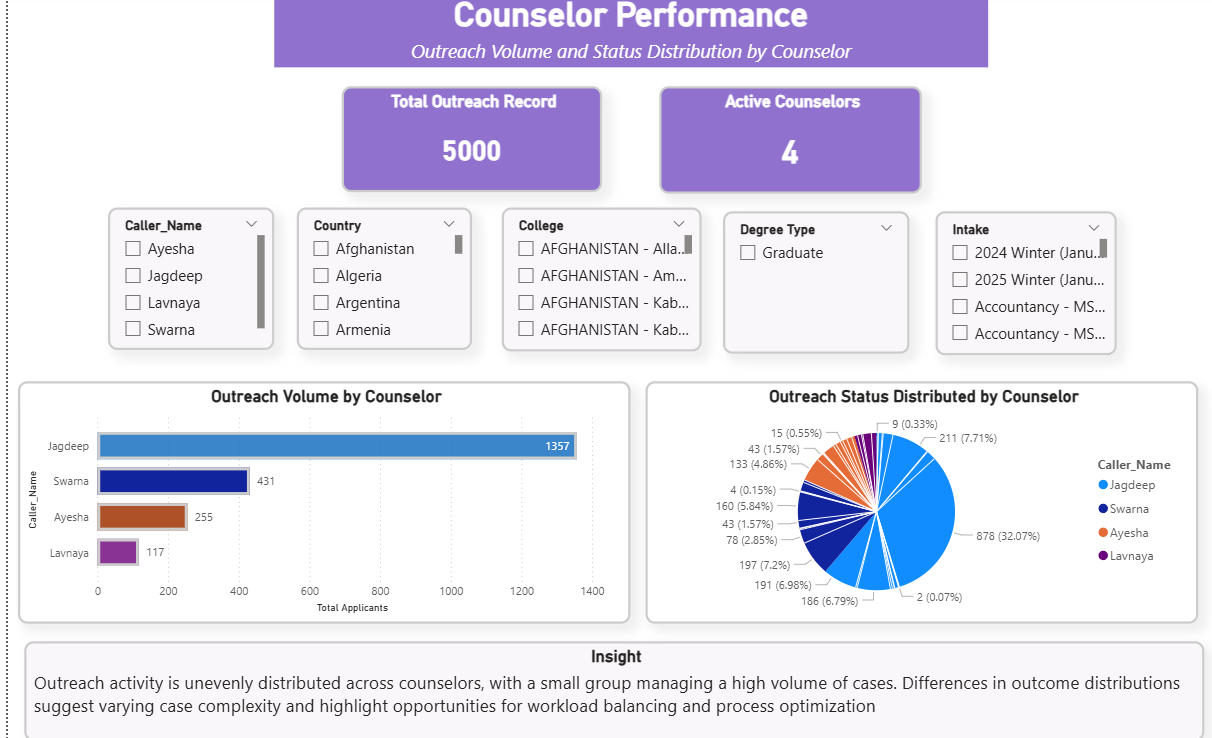

The page's visual inventory and layout, read from the dashboard file:
{"tool":"powerbi","page":{"name":"Counselor Performance","canvas":[1300,800],"ordinal":3},"visuals":[{"type":"card","title":"Total Outreach Record","fields":{"Values":["Week3_Analysis_View.Total Applicants"]},"box":[357.9,97.9,278.8,113.9],"z":0},{"type":"card","title":"Active Counselors","fields":{"Values":["Week3_Analysis_View.Active Counselors"]},"box":[698.4,97.9,281.5,115.3],"z":1000},{"type":"clusteredBarChart","title":"Outreach Volume by Counselor","fields":{"Category":["Week3_Analysis_View.Caller_Name"],"Y":["Week3_Analysis_View.Total Applicants"]},"box":[10.7,414.2,656.8,260.1],"z":2000},{"type":"pieChart","title":"Outreach Status Distributed by Counselor","fields":{"Category":["Week3_Analysis_View.Caller_Name"],"Series":["Week3_Analysis_View.Outcome_1"],"Y":["Week3_Analysis_View.Total Applicants"]},"box":[683.6,414.2,592.5,260.1],"z":3000},{"type":"slicer","fields":{"Values":["Week3_Analysis_View.Caller_Name"]},"box":[107.2,227.9,178.3,152.8],"z":4000},{"type":"slicer","fields":{"Values":["Week3_Analysis_View.Country"]},"box":[309.7,227.9,187.7,152.8],"z":5000},{"type":"slicer","fields":{"Values":["Week3_Analysis_View.College"]},"box":[529.5,227.9,214.5,154.2],"z":6000},{"type":"slicer","fields":{"Values":["Week3_Analysis_View.Degree Type"]},"box":[766.8,231.9,199.7,152.8],"z":7000},{"type":"slicer","fields":{"Values":["Week3_Analysis_View.Intake"]},"box":[994.6,231.9,194.4,154.2],"z":8000},{"type":"textbox","title":"Insight","box":[17.4,693,1265.4,107.2],"z":9000},{"type":"textbox","title":"Counselor Performance","box":[285.5,0,765.4,79.1],"z":10000}]}

Visuals, with their boxes in screenshot pixels (x1, y1, x2, y2), scaled from the page's 1300x800 canvas onto the 1212x738 screenshot:
"Total Outreach Record" card: [x1=334, y1=90, x2=594, y2=195]
"Active Counselors" card: [x1=651, y1=90, x2=914, y2=197]
"Outreach Volume by Counselor" clusteredBarChart: [x1=10, y1=382, x2=622, y2=622]
"Outreach Status Distributed by Counselor" pieChart: [x1=637, y1=382, x2=1190, y2=622]
slicer - Week3_Analysis_View.Caller_Name: [x1=100, y1=210, x2=266, y2=351]
slicer - Week3_Analysis_View.Country: [x1=289, y1=210, x2=464, y2=351]
slicer - Week3_Analysis_View.College: [x1=494, y1=210, x2=694, y2=352]
slicer - Week3_Analysis_View.Degree Type: [x1=715, y1=214, x2=901, y2=355]
slicer - Week3_Analysis_View.Intake: [x1=927, y1=214, x2=1109, y2=356]
"Insight" textbox: [x1=16, y1=639, x2=1196, y2=737]
"Counselor Performance" textbox: [x1=266, y1=0, x2=980, y2=73]
